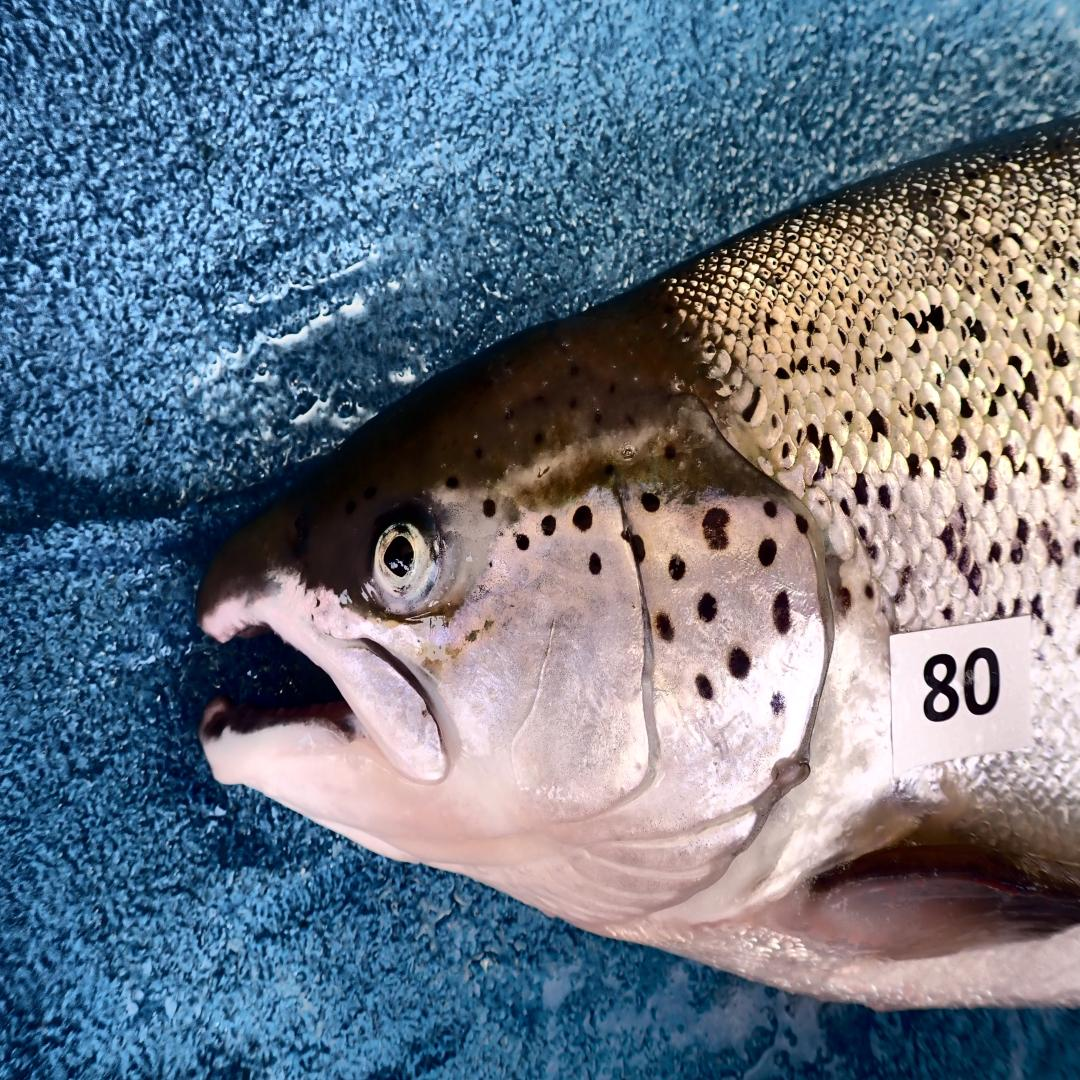spot: (702, 508, 731, 552), (772, 591, 791, 633), (728, 647, 751, 681), (698, 593, 717, 622), (572, 506, 593, 532), (656, 613, 675, 641), (757, 537, 776, 565), (694, 675, 713, 700), (669, 554, 686, 579), (631, 534, 645, 562), (641, 492, 660, 512), (770, 693, 784, 717), (542, 515, 557, 534), (795, 515, 808, 534), (589, 554, 601, 574), (517, 534, 529, 551), (764, 501, 776, 518)
